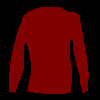maglione: (8, 6, 88, 94)
